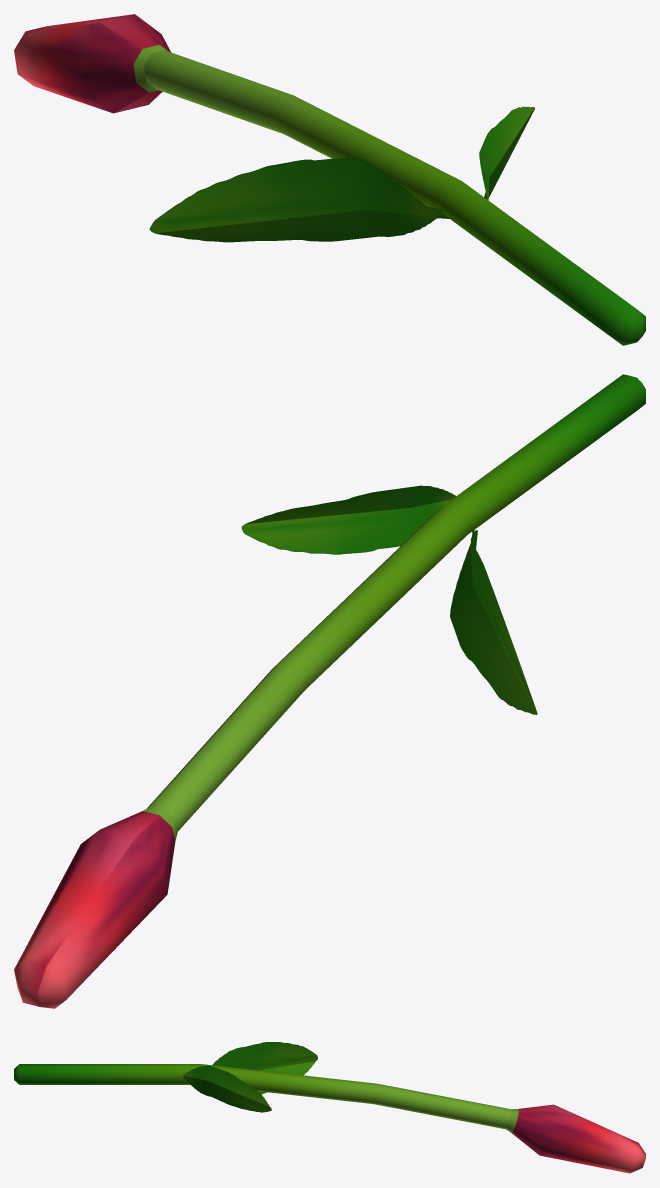
File: SM_Lilly_Red_Closed.fbx
The picture shows the model from 3 angles, top to bottom: view 1: azimuth 30°, elevation 25°; view 2: azimuth 150°, elevation 25°; view 3: azimuth 270°, elevation 25°; orthographic projection. The views are drawn at different scales.
Visible parts, largest first — view 1: Lilly_Red_Closed; view 2: Lilly_Red_Closed; view 3: Lilly_Red_Closed.
Part boxes in pixels (<box>): Lilly_Red_Closed: <box>14,14,645,345</box>; Lilly_Red_Closed: <box>14,374,645,1008</box>; Lilly_Red_Closed: <box>14,1042,645,1173</box>.
Size of the model in its own units: 22.72 by 13.99 by 66.1.
